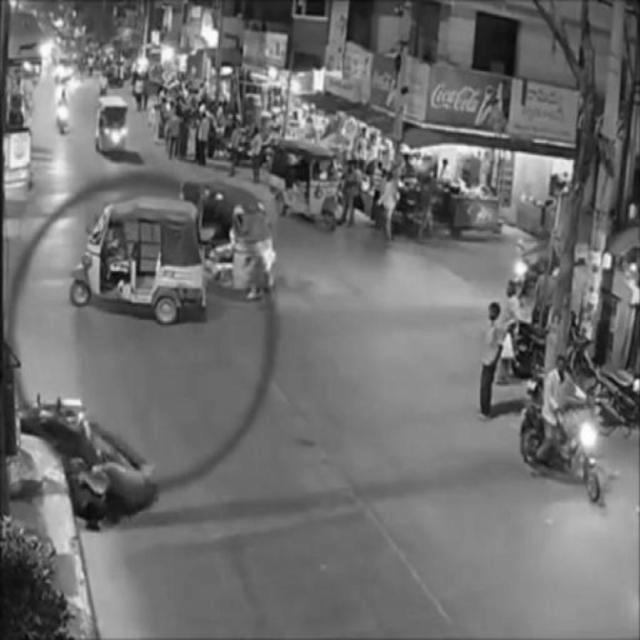person: (476, 303, 502, 423), (501, 281, 519, 385)
vehicle: (70, 198, 204, 326), (179, 182, 275, 310), (521, 356, 598, 506), (273, 139, 344, 232), (96, 98, 130, 159)
